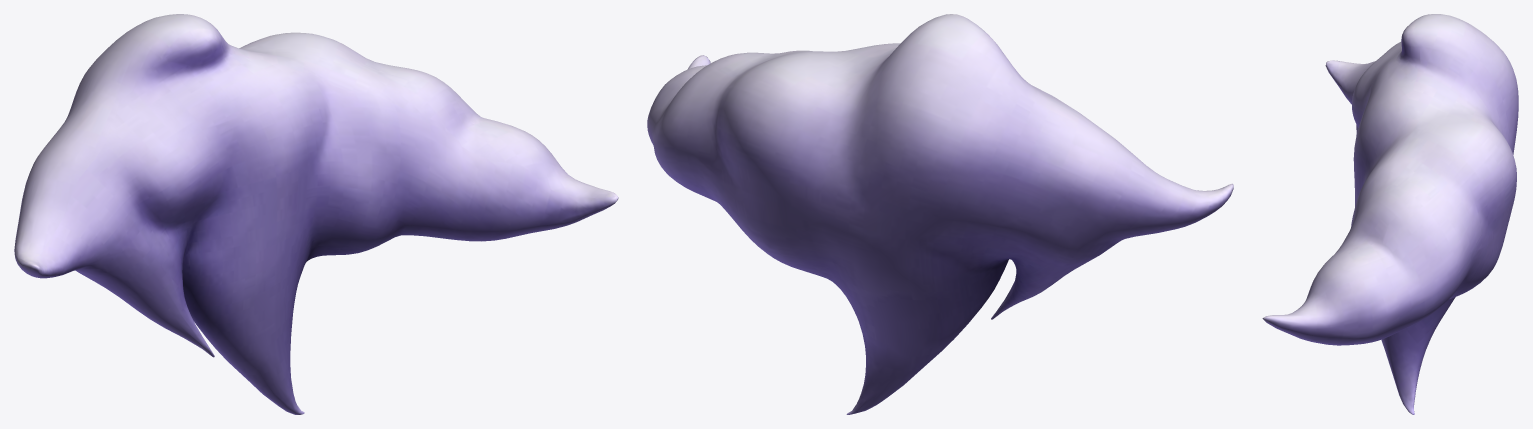
File: sky_cloud_02b_nexus.glb
3 views of the same model, side by side, from view 1: azimuth 30°, elevation 25°; view 2: azimuth 150°, elevation 25°; view 3: azimuth 270°, elevation 25° (orthographic). The views are drawn at different scales.
Parts seen in each view (by area): view 1: cloud_02b; view 2: cloud_02b; view 3: cloud_02b.
Boxes of the visible parts, box(x1,y1,x2,y2) form: cloud_02b: box(14, 14, 618, 414); cloud_02b: box(647, 14, 1233, 414); cloud_02b: box(1262, 14, 1518, 414).
Size of the model in its own units: 52.72 by 37.58 by 25.03.
1 material, 1 textured.
